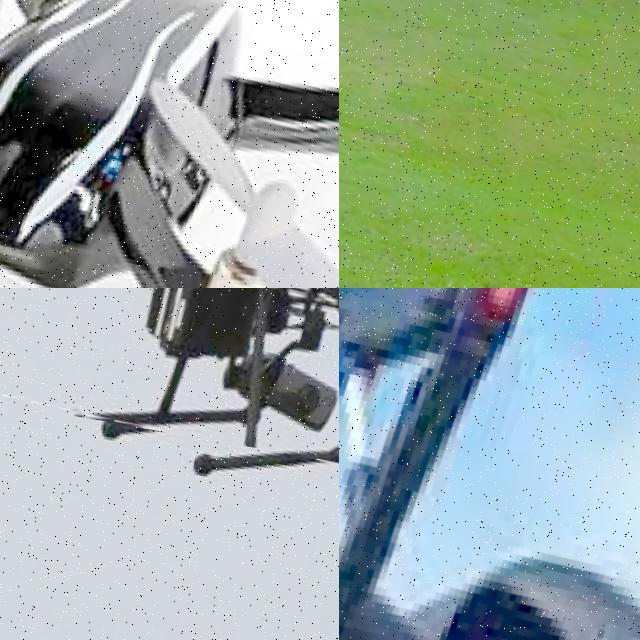drone: (339, 288, 640, 640), (0, 0, 339, 288), (0, 288, 339, 490)
